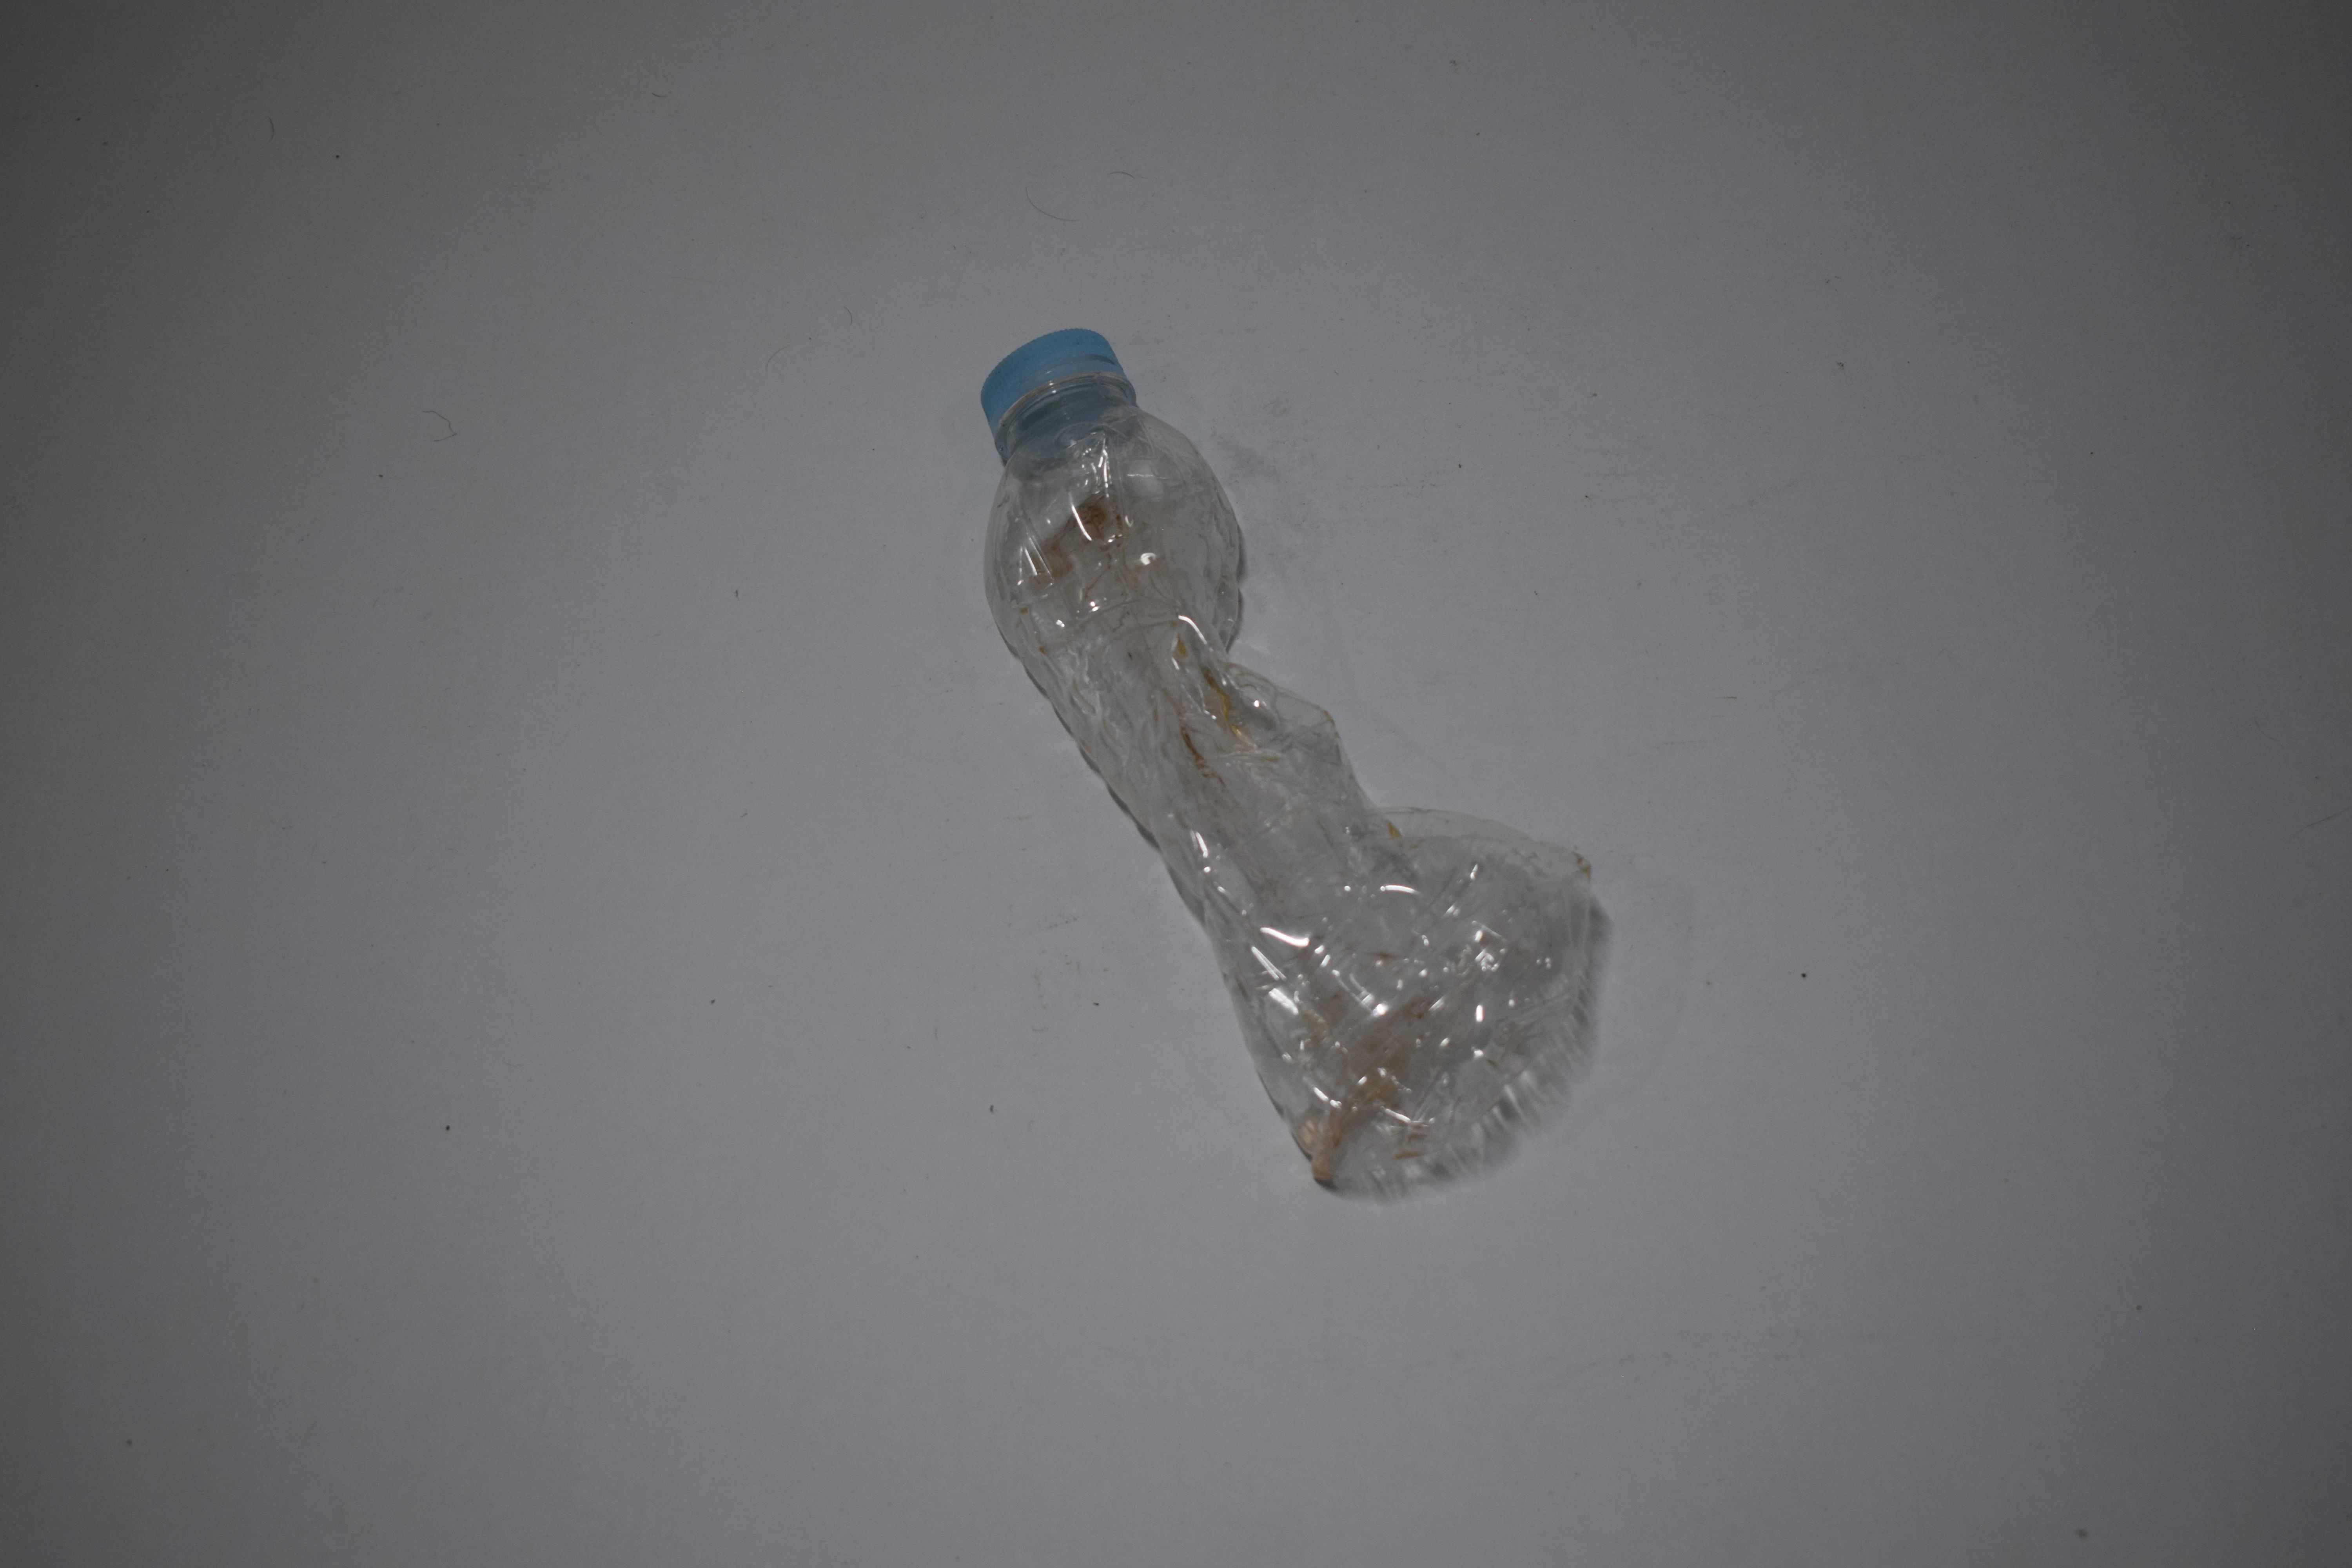bottle: (0, 705, 436, 800)
